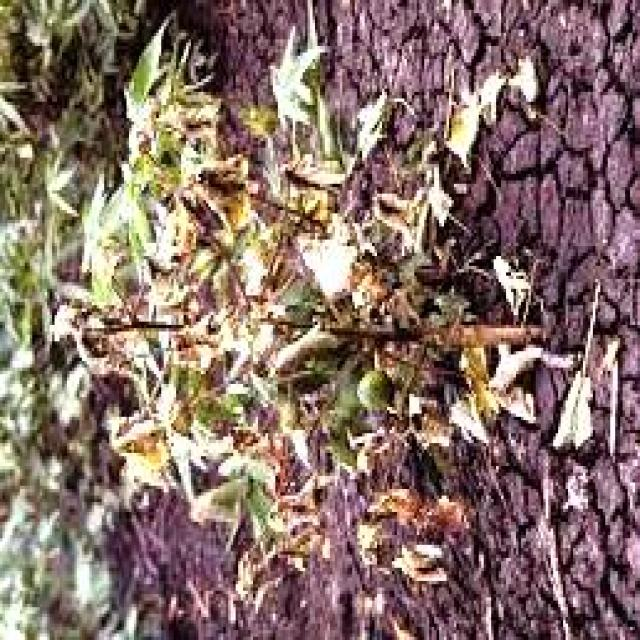Fusarium Wilt: (47, 49, 557, 513)
